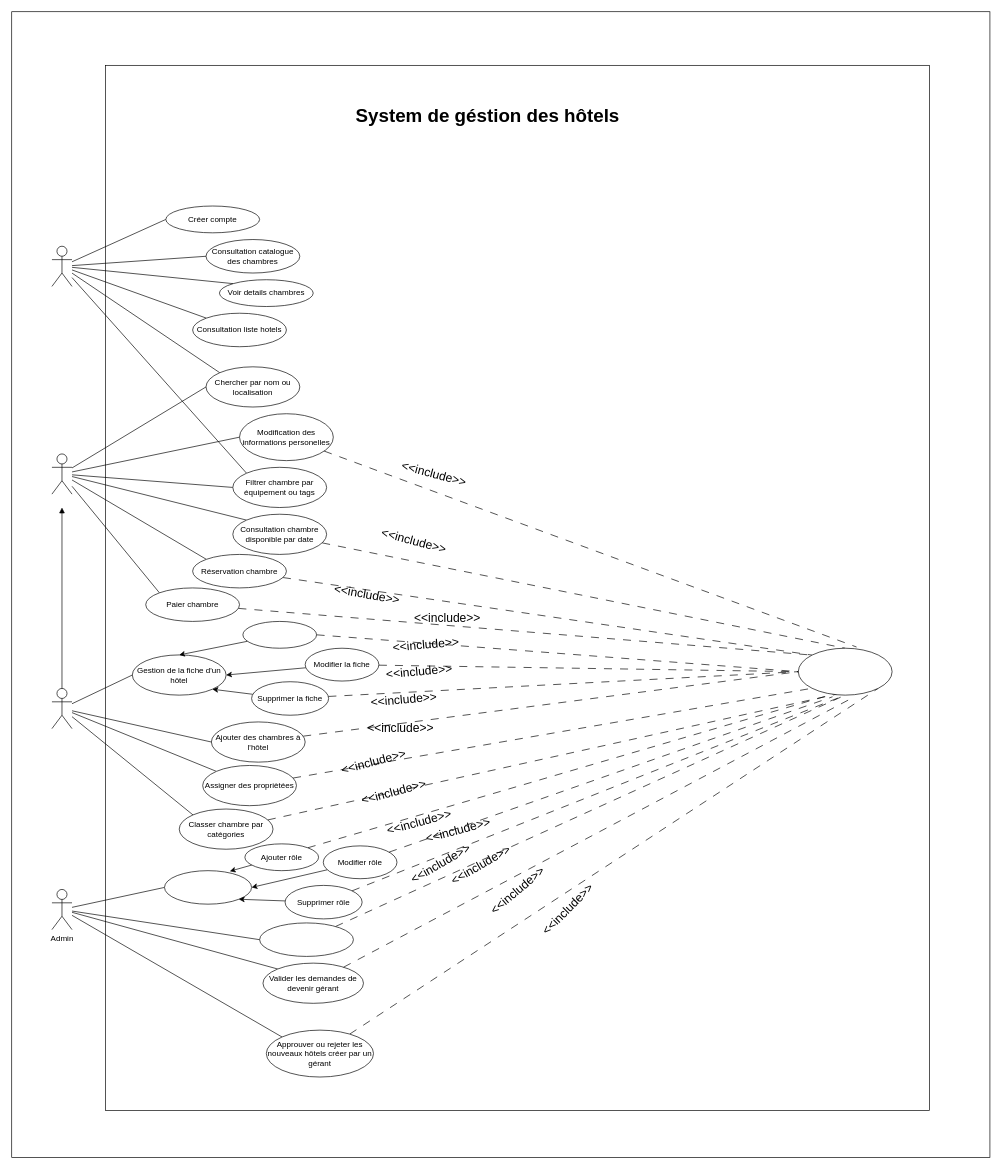
The diagram is 1002 pixels wide and 1169 high, and some of its shapes have lost their labels. The centre of each missing label's shape, as x and y in pixels:
Banner un utilisateur: the point at 306,939
Client: the point at 61,473
Créer fiche: the point at 279,634
Gestion des rôles: the point at 208,887
Gérant: the point at 61,708
Se connecter: the point at 845,671
Visiteur: the point at 61,266
